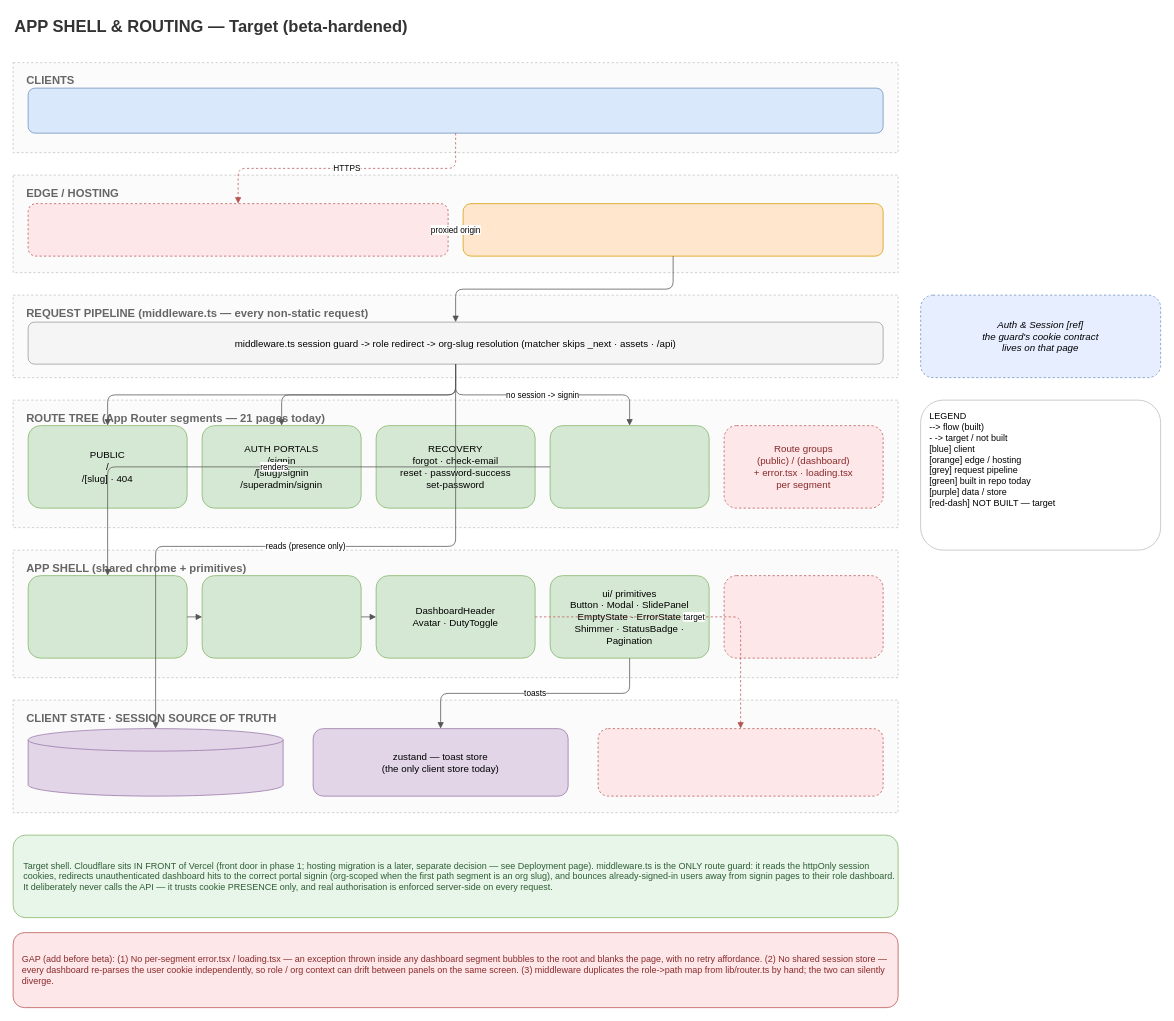
Image size: 1174x1021. Some labels were removed from this diagram. The shapes that lost their labels are listed below. From the top down, each one's centre as x and y in pixels, then its label:
At pixel 455 110: "Browser public visitor · staff (5 roles) · patient · superadmin".
At pixel 237 229: "Cloudflare — front door [phase 1] WAF · edge rate-limit · DDoS · bot control".
At pixel 672 229: "Vercel — origin Next.js 15 App Router · SSR + RSC · next/image".
At pixel 629 466: "DASHBOARDS /[slug]/{role} /superadmin (guarded)".
At pixel 107 616: "DashboardShell".
At pixel 281 616: "Sidebar role-scoped nav".
At pixel 803 616: "Error boundary + suspense skeletons per route segment".
At pixel 155 762: "httpOnly cookies access (1h) · refresh · user".
At pixel 740 762: "zustand — session store role · org · duty (single source)".
